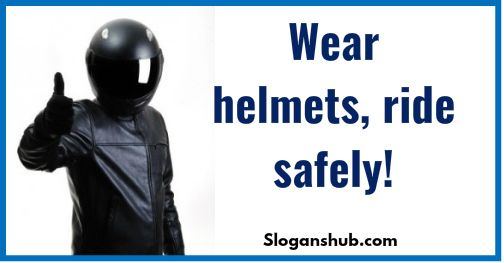helmets: (77, 14, 175, 121)
